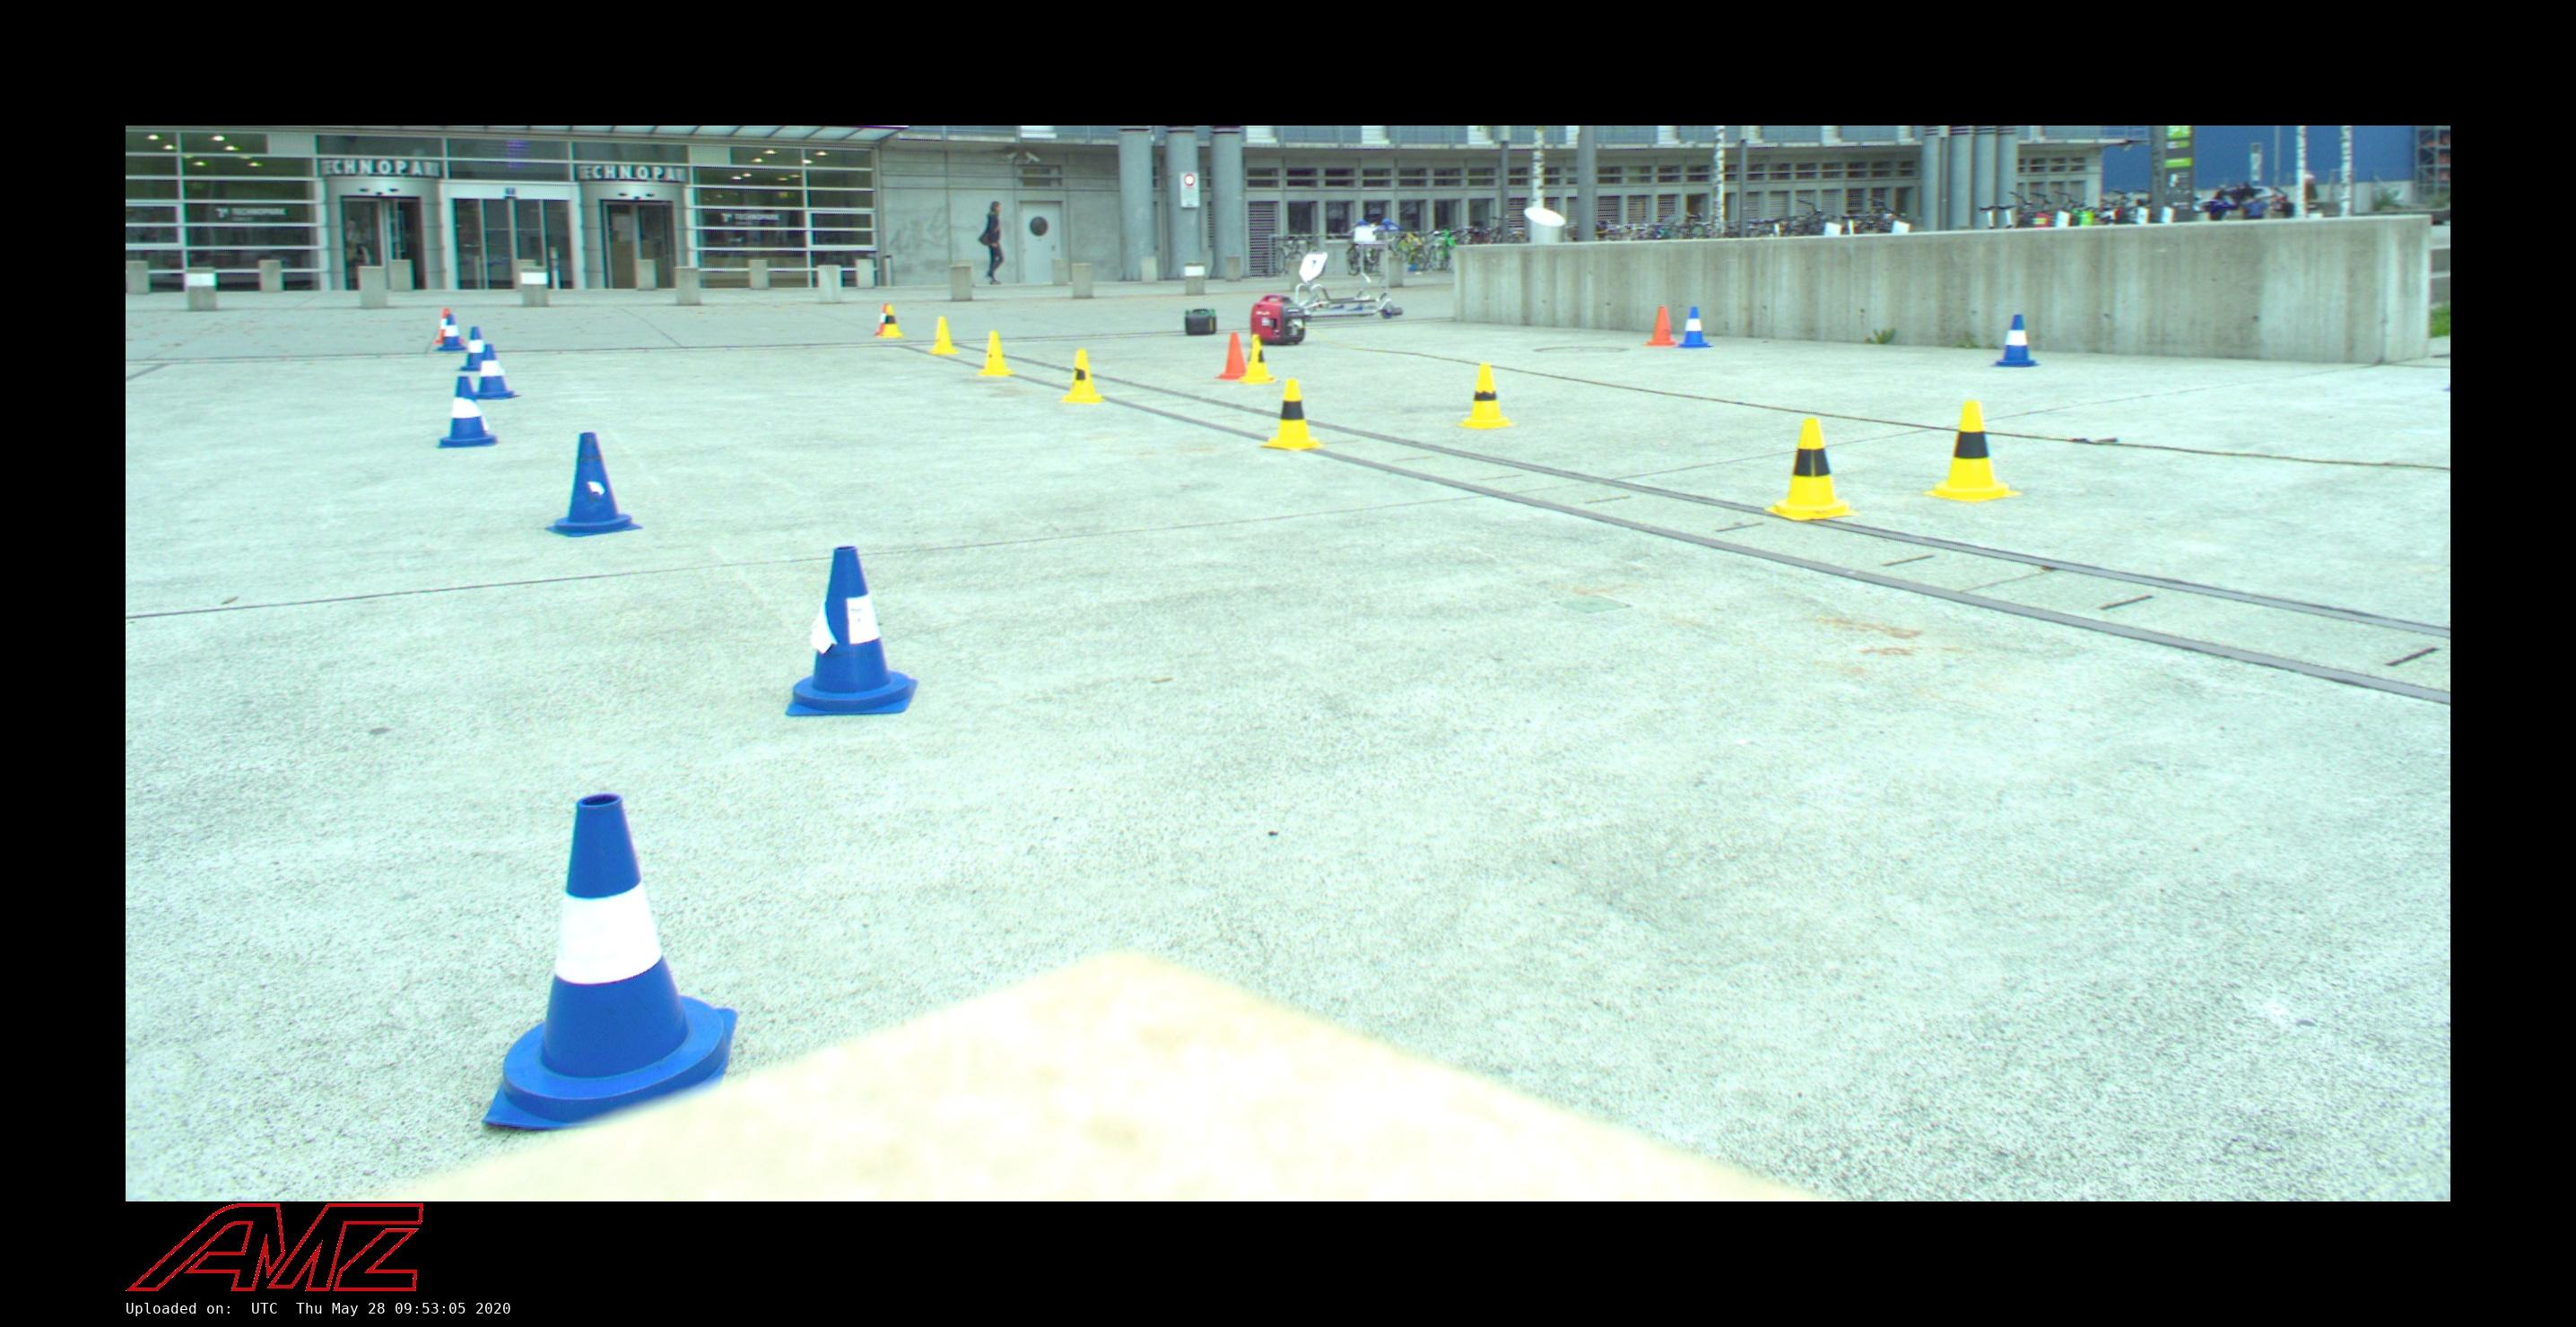blue_cone: (472, 794, 740, 1121), (787, 547, 919, 713), (547, 432, 643, 537), (437, 376, 498, 449), (1990, 313, 2045, 367), (469, 344, 518, 399), (455, 327, 494, 369), (1677, 306, 1713, 347), (437, 315, 467, 352)
orange_cone: (1215, 332, 1251, 381), (1642, 306, 1677, 347), (432, 310, 465, 344), (873, 303, 897, 335)
yellow_cone: (1762, 416, 1858, 520), (1924, 399, 2021, 501), (1263, 379, 1325, 450), (1456, 364, 1516, 430), (1058, 350, 1107, 403), (1237, 333, 1276, 384), (975, 330, 1014, 376), (926, 317, 960, 354), (877, 305, 905, 339)
